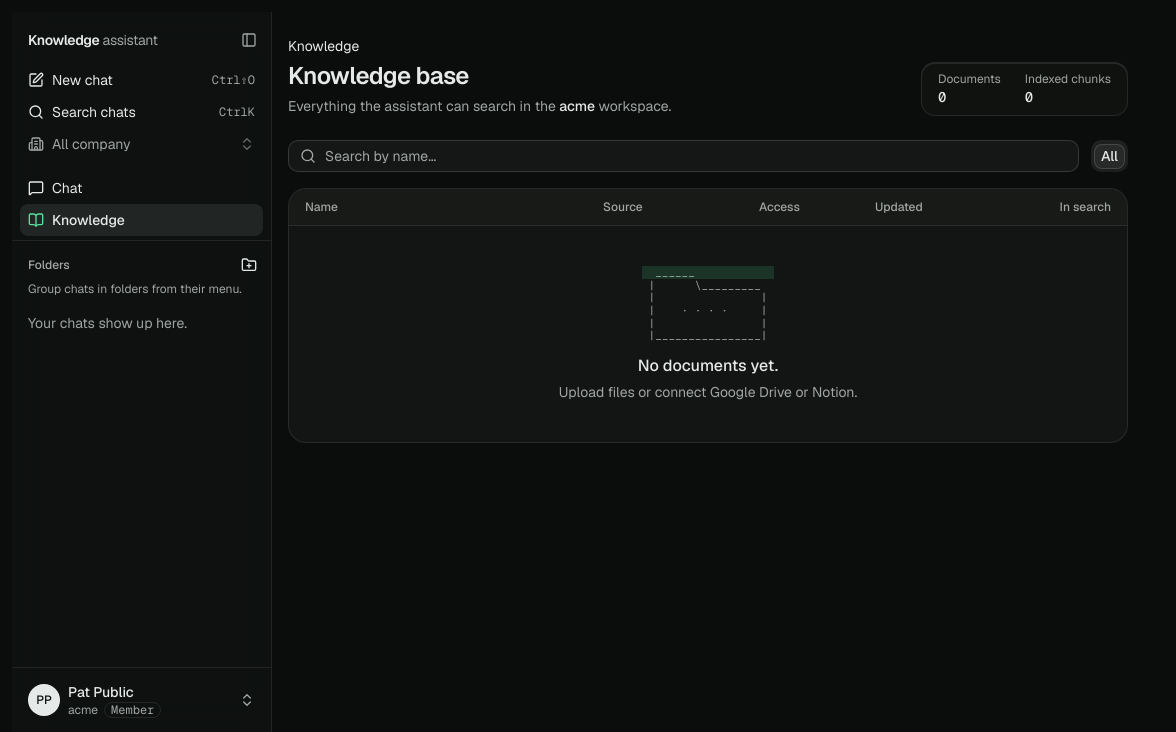
Test: the account menu › opens Settings from its Settings item
This screenshot has width=1176, height=732.
Click the button "PP Pat Public acme Member" at (142, 700), box [20,676,263,724]
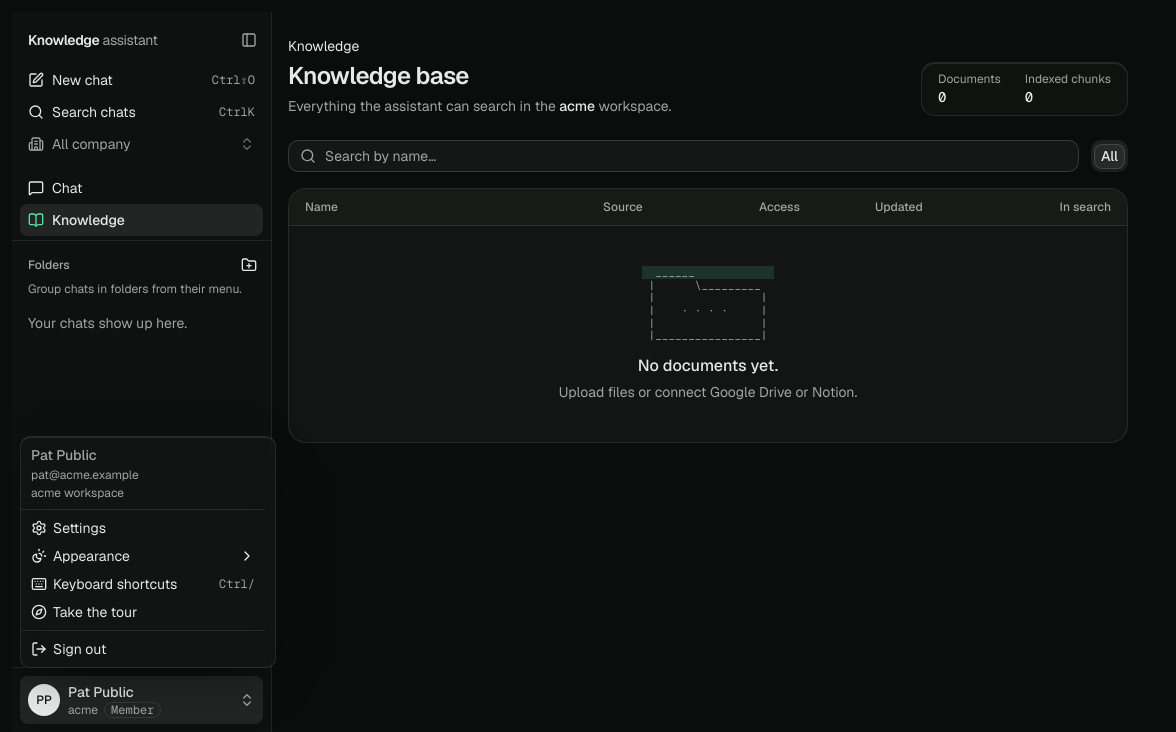
Click the menu item "Settings" at (68, 528), box [31,519,106,537]
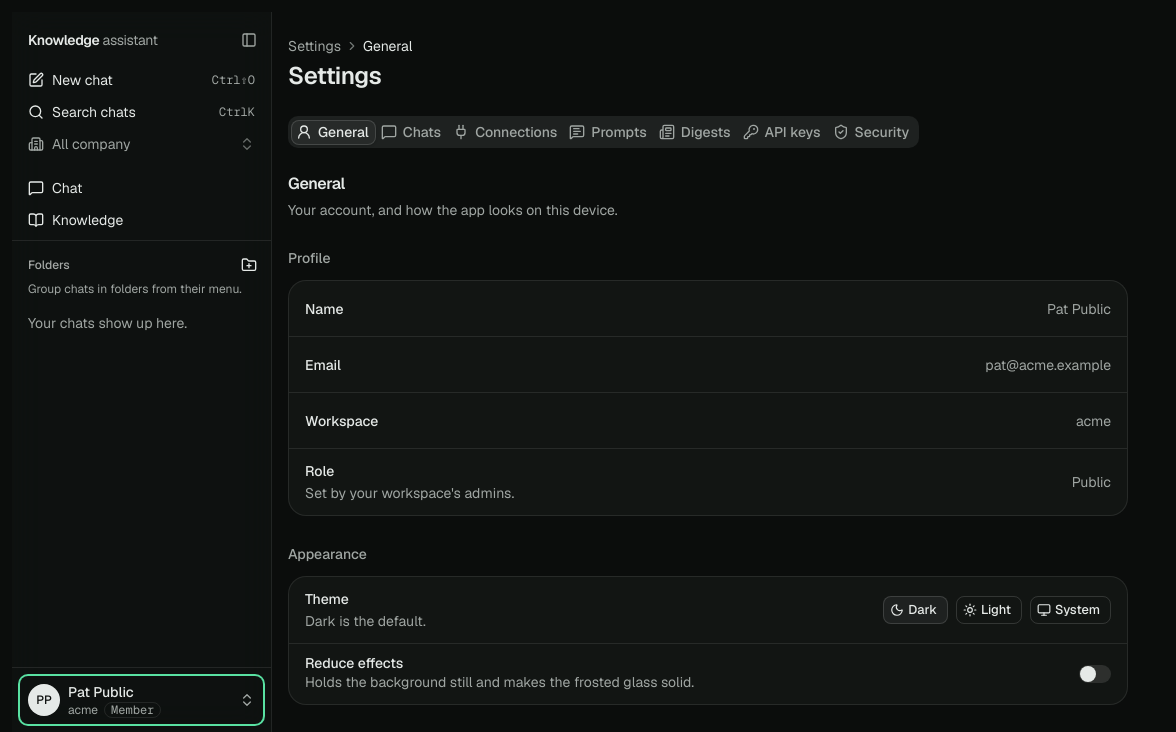
Check: the heading "Settings" is shown, box [288,60,381,91]
